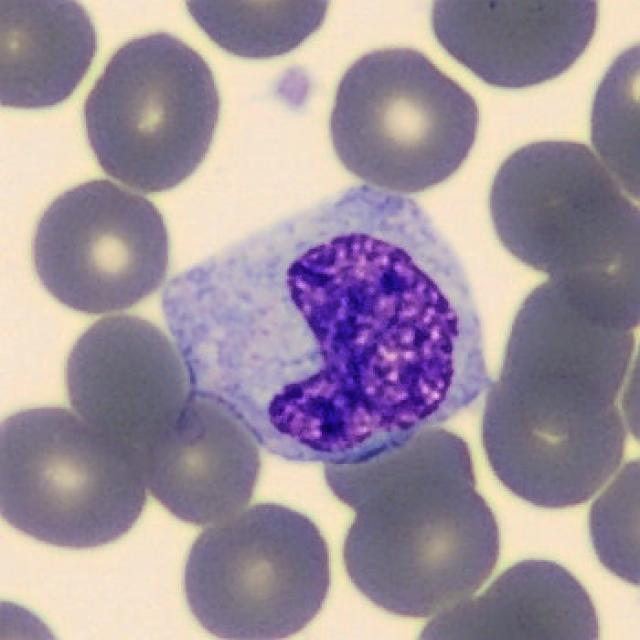Monocito: (163, 187, 486, 459)
